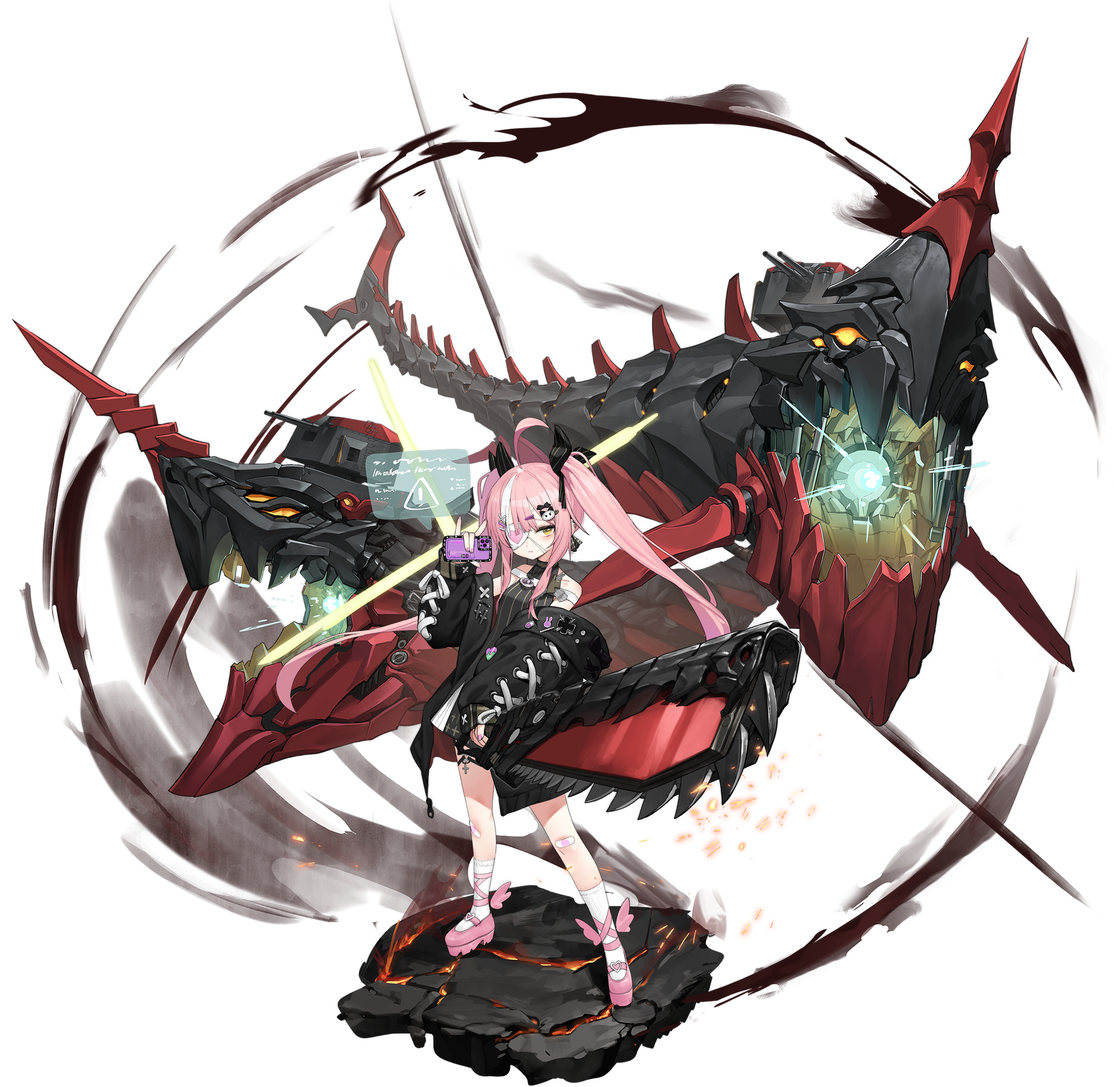person: (341, 400, 750, 1046)
